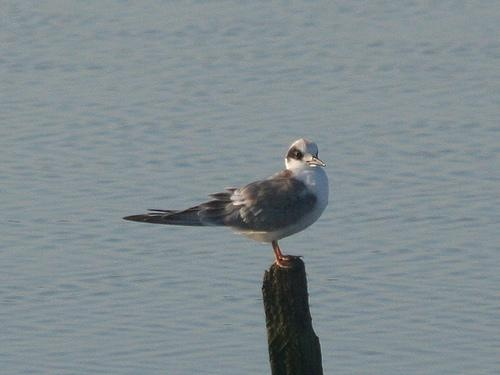bird: (122, 135, 334, 268)
